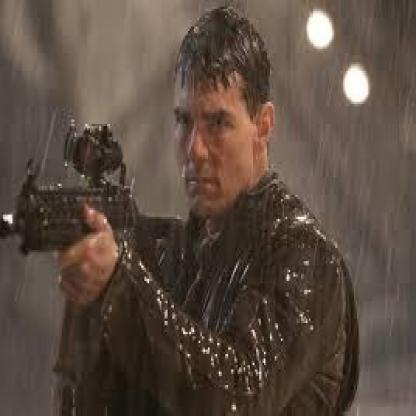Gun: (0, 115, 182, 256)
